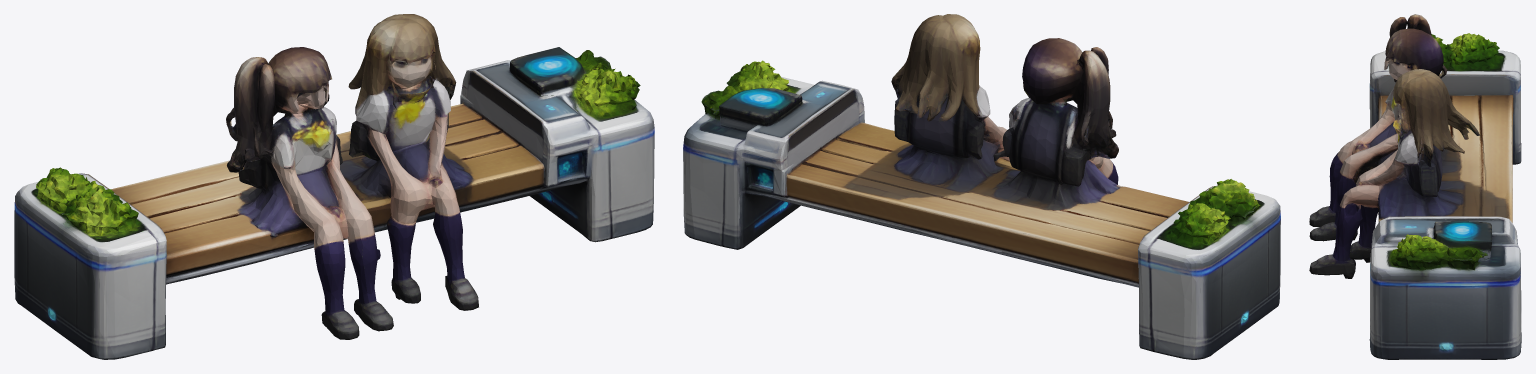
Rendered from girls_bench.glb.
3 views of the same model, side by side, from view 1: azimuth 30°, elevation 25°; view 2: azimuth 150°, elevation 25°; view 3: azimuth 270°, elevation 25° (orthographic). The views are drawn at different scales.
Parts seen in each view (by area): view 1: world; view 2: world; view 3: world.
Part boxes in pixels (box(x1,y1,x2,y2)): world: box(14, 14, 654, 359); world: box(683, 14, 1280, 359); world: box(1309, 14, 1521, 359).
Bounding box in the file's own units: 0.9997 × 0.4175 × 0.3986.
1 material, 1 textured.
